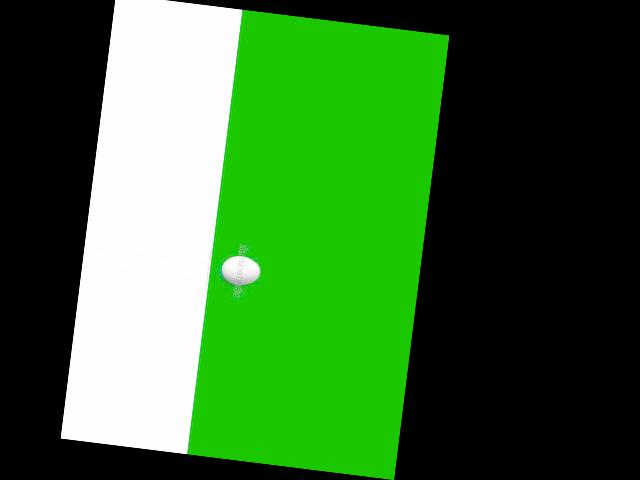egg: (220, 254, 261, 287)
